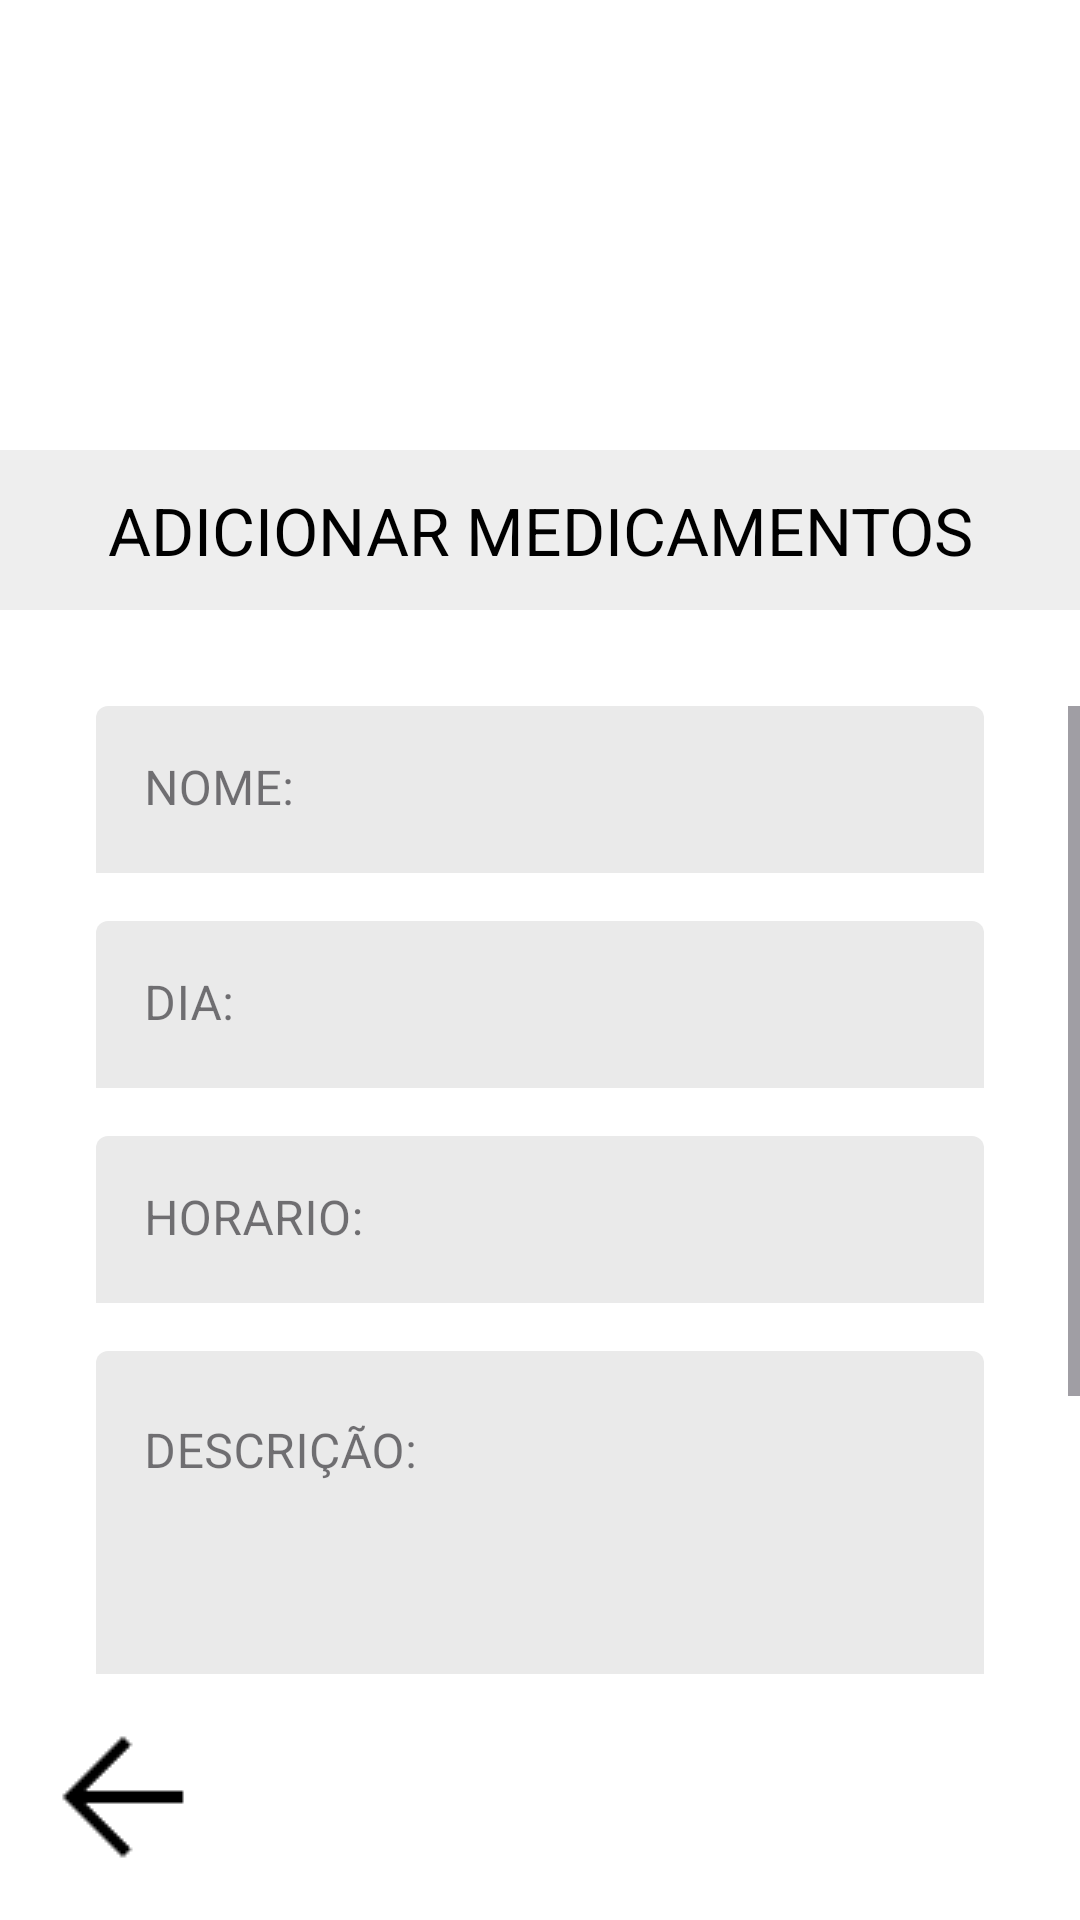

Icon bounding boxes for this 1080*1920 phone screenshot, format Rect(x1, y1, x2, y2):
Voltar: Rect(62, 1736, 184, 1858)
